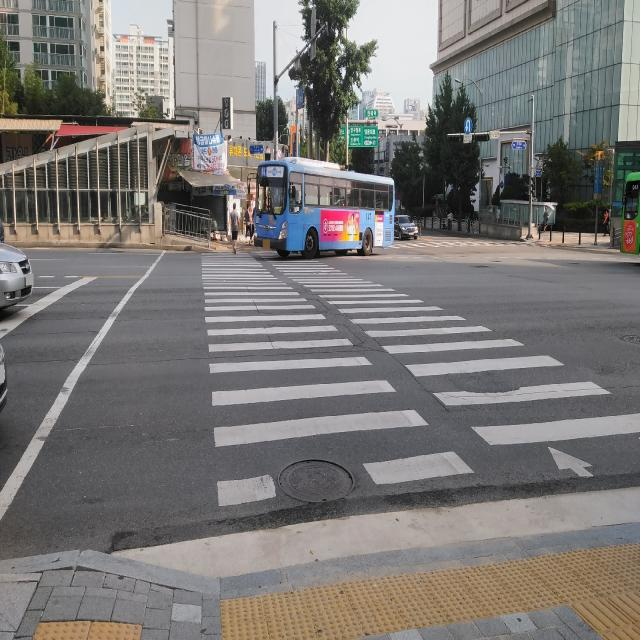횡단보도: (201, 251, 640, 506)
